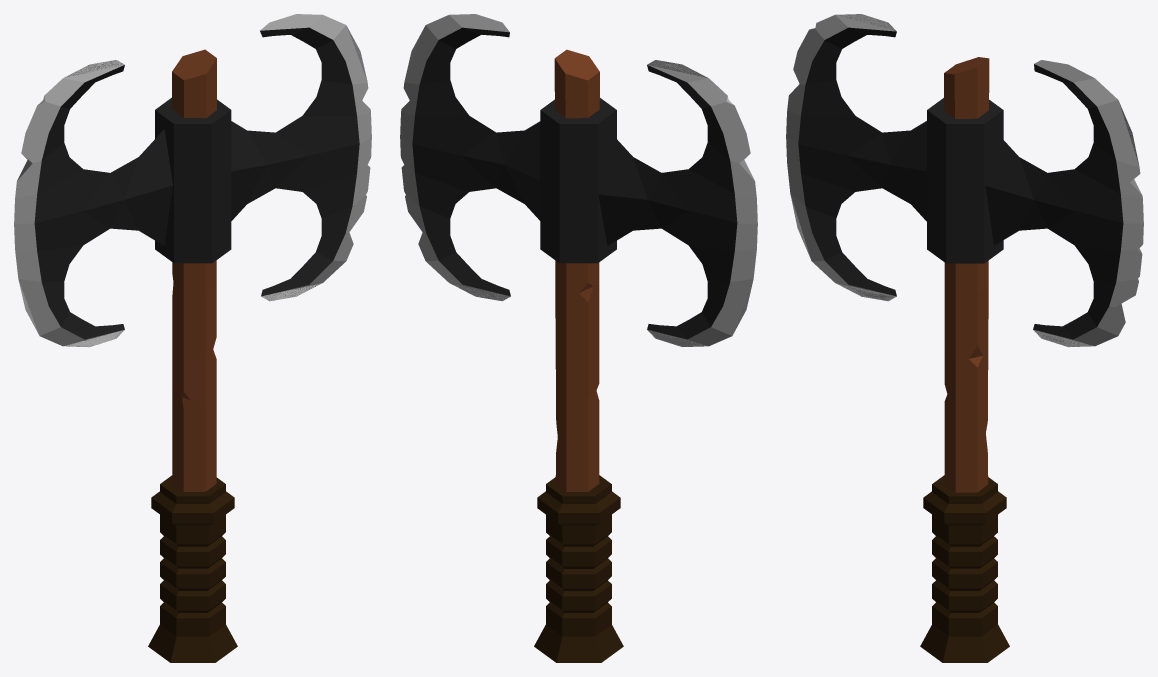
The model's file is hache.glb.
The picture shows the model from 3 angles, left to right: view 1: azimuth 30°, elevation 25°; view 2: azimuth 150°, elevation 25°; view 3: azimuth 330°, elevation 25°; orthographic projection.
Visible parts, largest first — view 1: Cylindre.001, Cylindre.002, Plan, Plan.001, Plan.002, Cylindre, Plan.003; view 2: Cylindre.001, Cylindre.002, Plan, Plan.002, Plan.001, Cylindre, Plan.003; view 3: Cylindre.001, Cylindre.002, Plan.002, Plan, Plan.003, Cylindre, Plan.001.
Part boxes in pixels (x1=…): Cylindre.001: x1=172, y1=49, x2=216, y2=491; Cylindre.002: x1=148, y1=475, x2=237, y2=662; Plan: x1=14, y1=60, x2=172, y2=224; Plan.001: x1=14, y1=185, x2=172, y2=347; Plan.002: x1=231, y1=14, x2=371, y2=171; Cylindre: x1=155, y1=97, x2=231, y2=263; Plan.003: x1=231, y1=137, x2=371, y2=301; Cylindre.001: x1=554, y1=49, x2=599, y2=491; Cylindre.002: x1=534, y1=475, x2=623, y2=662; Plan: x1=598, y1=60, x2=757, y2=224; Plan.002: x1=400, y1=14, x2=540, y2=179; Plan.001: x1=598, y1=194, x2=757, y2=346; Cylindre: x1=540, y1=98, x2=616, y2=263; Plan.003: x1=400, y1=137, x2=540, y2=301; Cylindre.001: x1=944, y1=57, x2=989, y2=492; Cylindre.002: x1=920, y1=475, x2=1009, y2=662; Plan.002: x1=985, y1=60, x2=1143, y2=224; Plan: x1=786, y1=14, x2=926, y2=171; Plan.003: x1=985, y1=186, x2=1143, y2=347; Cylindre: x1=927, y1=98, x2=1003, y2=263; Plan.001: x1=786, y1=137, x2=926, y2=301.
Size of the model in its own units: 0.3305 by 0.5359 by 0.072.
